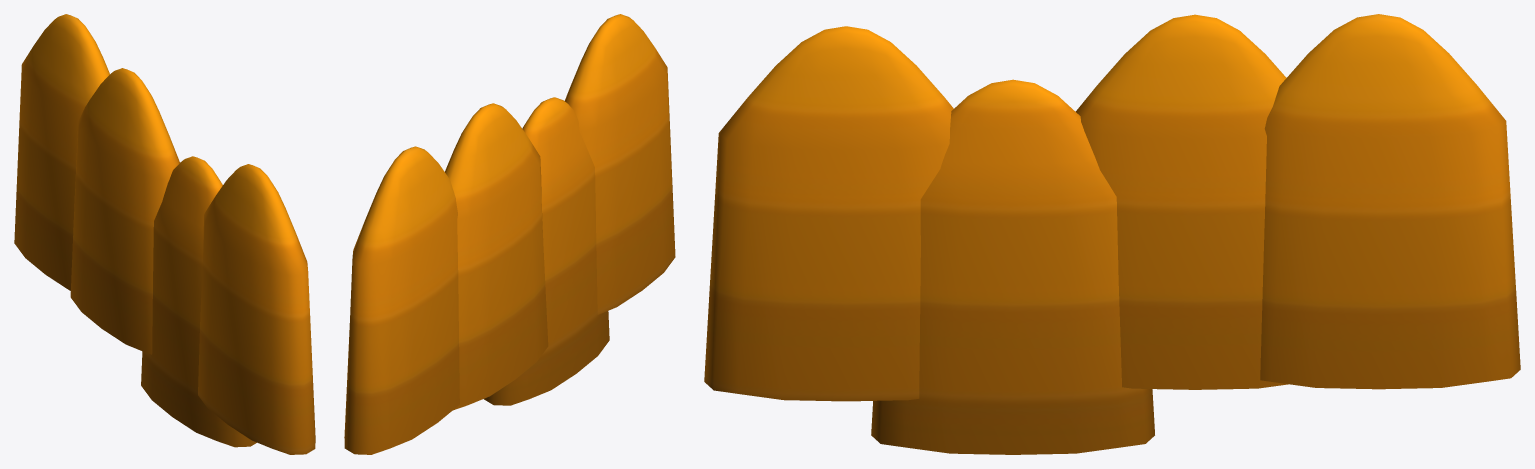
The model's file is mountain.fbx.
3 views of the same model, side by side, from view 1: azimuth 30°, elevation 25°; view 2: azimuth 150°, elevation 25°; view 3: azimuth 270°, elevation 25° (orthographic). The views are drawn at different scales.
Parts seen in each view (by area): view 1: Cube.001; view 2: Cube.001; view 3: Cube.001.
Part boxes in pixels (x1,y1,x2,y2): Cube.001: (14, 14, 315, 454); Cube.001: (344, 14, 675, 454); Cube.001: (704, 14, 1520, 454).
Bounding box in the file's own units: 64.56 × 285 × 493.
1 material, 1 textured.
